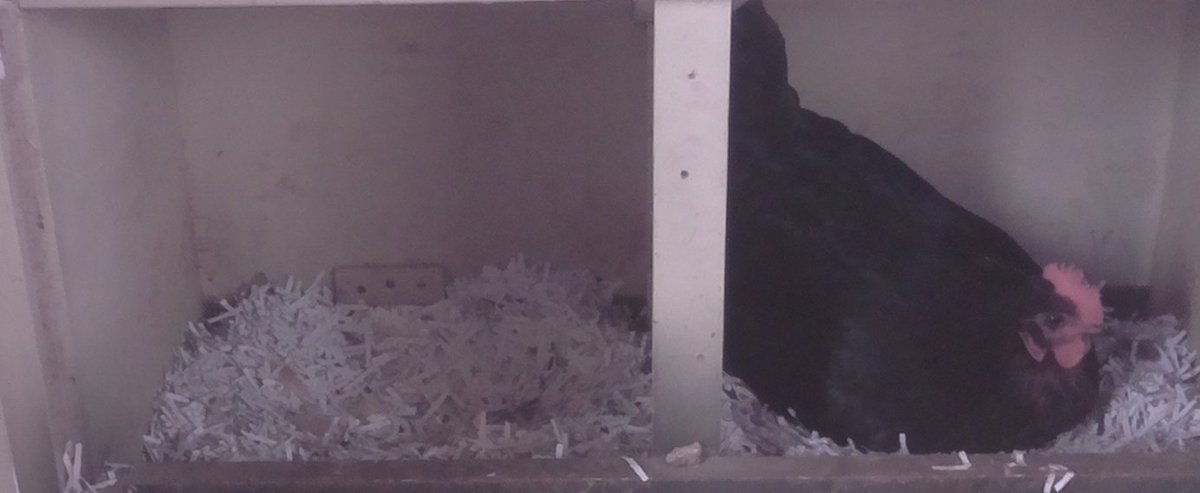hen: (735, 134, 1112, 447)
